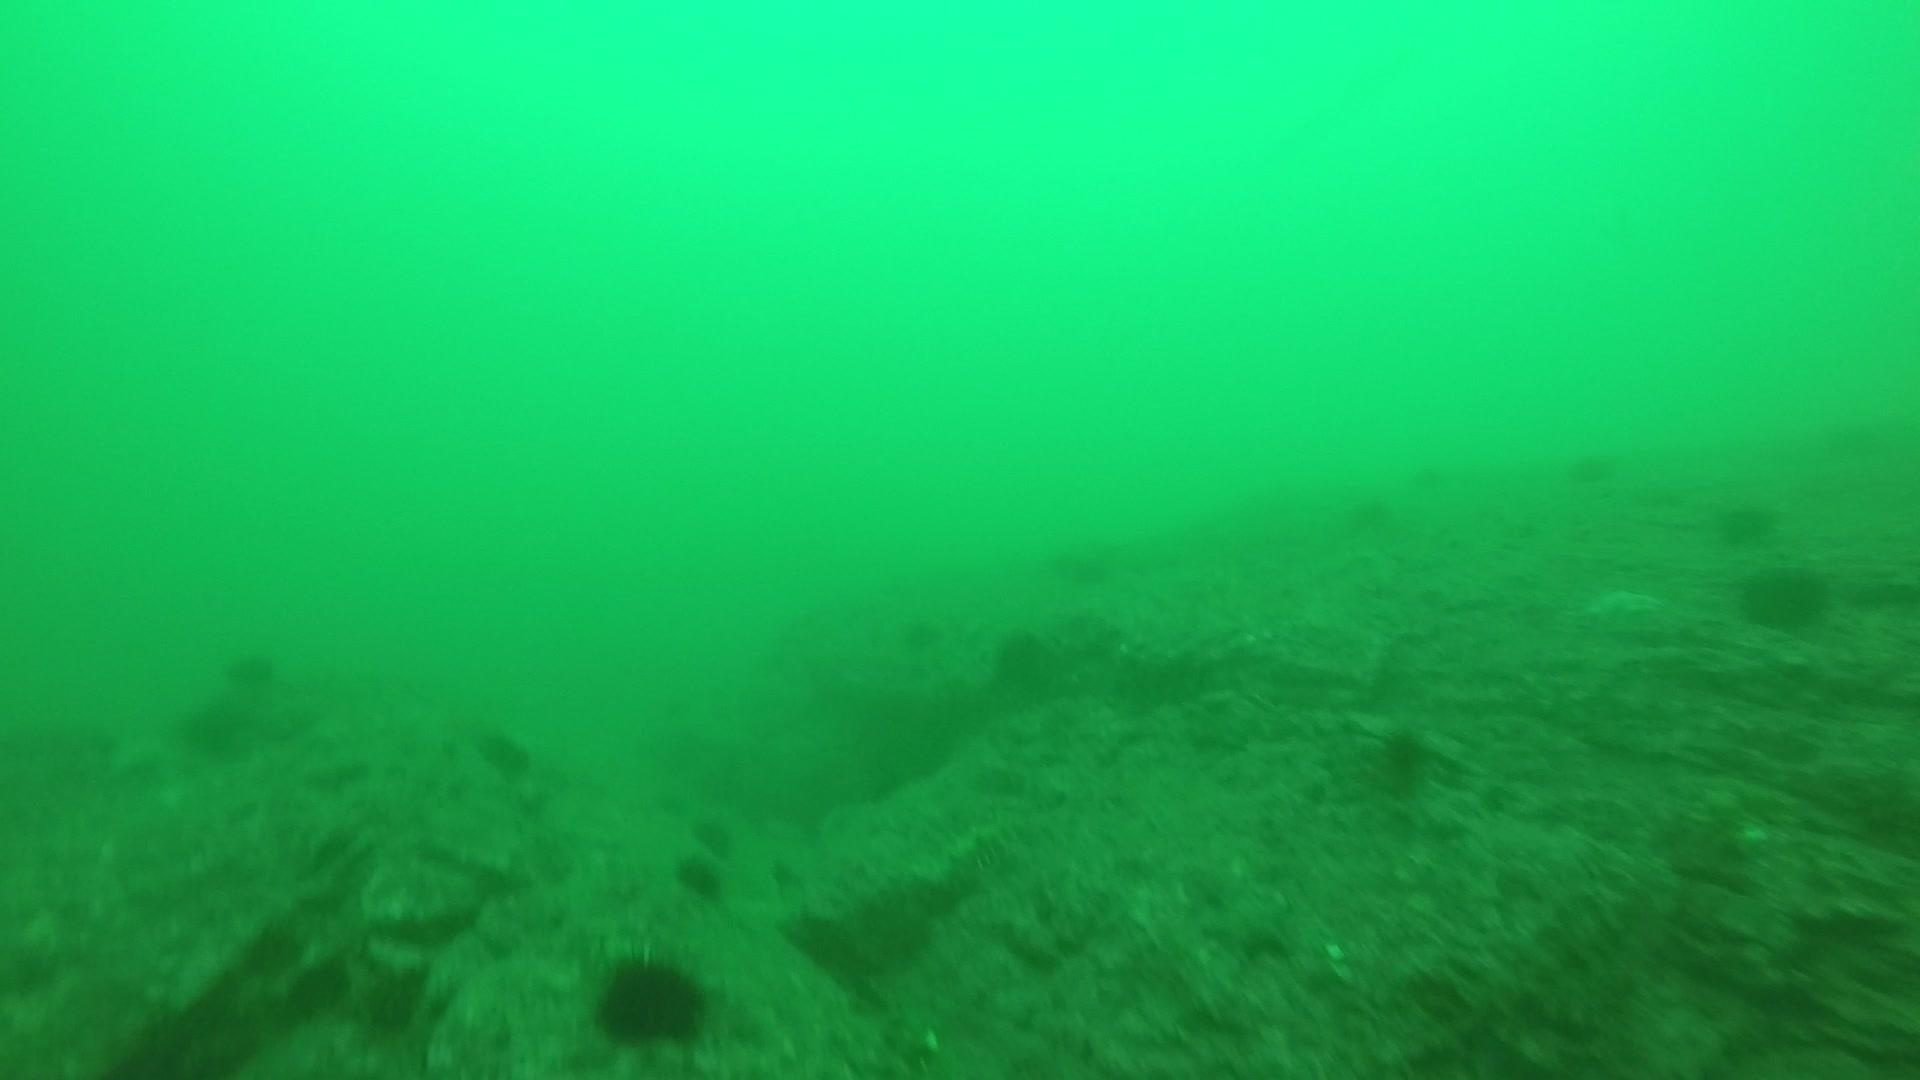echinus: (585, 945, 716, 1054), (1735, 558, 1836, 637), (785, 902, 876, 985), (1362, 721, 1443, 800), (1317, 476, 1398, 555), (877, 589, 957, 669), (1565, 436, 1644, 516), (177, 692, 255, 762), (1710, 489, 1782, 549), (1402, 452, 1470, 510), (673, 843, 733, 902), (220, 642, 284, 695), (690, 812, 737, 858), (472, 721, 510, 760), (500, 744, 538, 774)
